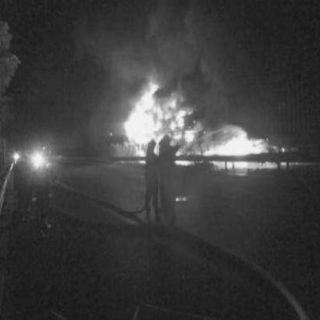Fire: (113, 88, 281, 172)
other: (11, 140, 57, 173)
